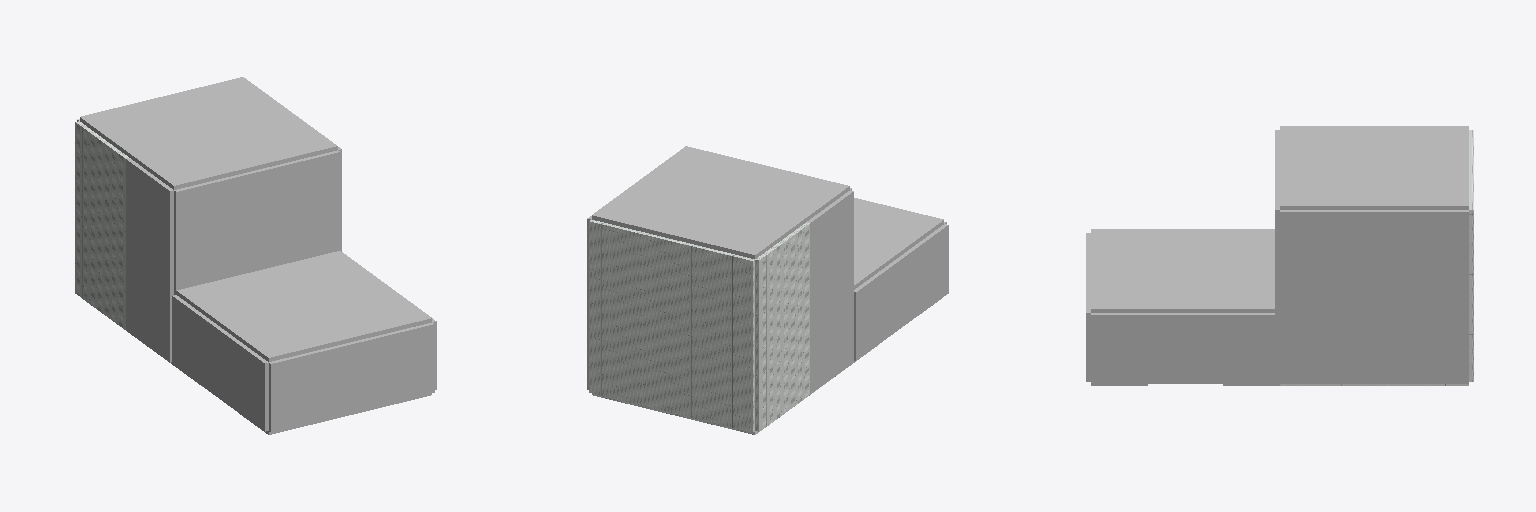
3 views of the same model, side by side, from view 1: azimuth 30°, elevation 25°; view 2: azimuth 150°, elevation 25°; view 3: azimuth 270°, elevation 25° (orthographic).
Visible parts, largest first — view 1: Cube.009, Cube.018, Cube.017, Cube.012, Cube.001, Cube.011, Cube.016, Cube.004, Cube.013, Cube.010; view 2: Cube.003, Cube.009, Cube.001, Cube.011, Cube.016, Cube.018; view 3: Cube.005, Cube.009, Cube.018, Cube.015, Cube.003, Cube.012, Cube.017.
Boxes of the visible parts, box(x1,y1,x2,y2) form: Cube.009: box(80, 77, 337, 189); Cube.018: box(176, 251, 431, 361); Cube.017: box(269, 322, 434, 432); Cube.012: box(232, 150, 339, 275); Cube.001: box(75, 121, 128, 329); Cube.011: box(129, 160, 173, 362); Cube.016: box(172, 295, 268, 431); Cube.004: box(174, 180, 216, 294); Cube.013: box(215, 176, 233, 280); Cube.010: box(126, 158, 131, 331); Cube.003: box(589, 220, 754, 432); Cube.009: box(592, 146, 849, 258); Cube.001: box(755, 222, 809, 431); Cube.011: box(809, 190, 853, 391); Cube.016: box(854, 224, 948, 360); Cube.018: box(854, 198, 943, 289); Cube.005: box(1280, 210, 1468, 383); Cube.009: box(1280, 126, 1468, 209); Cube.018: box(1091, 229, 1274, 312); Cube.015: box(1091, 313, 1274, 383); Cube.003: box(1469, 130, 1473, 381); Cube.012: box(1275, 158, 1279, 381); Cube.017: box(1086, 233, 1090, 381).
Bounding box in the file's own units: 42 × 42 × 82.
Materials: 17 (1 with a texture image).